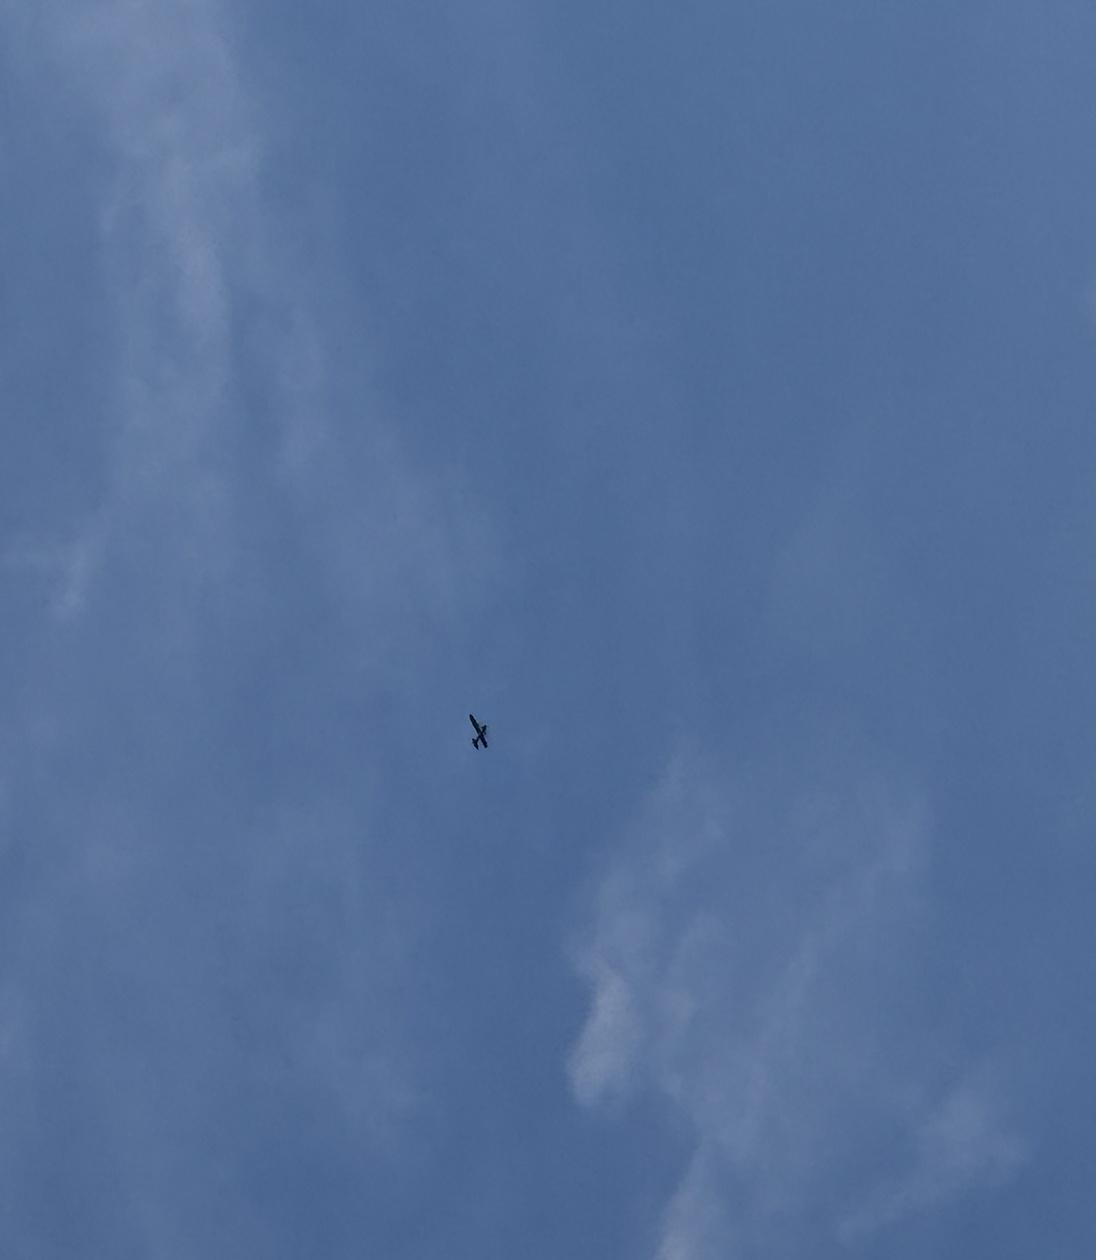Plane: (448, 696, 507, 772)
